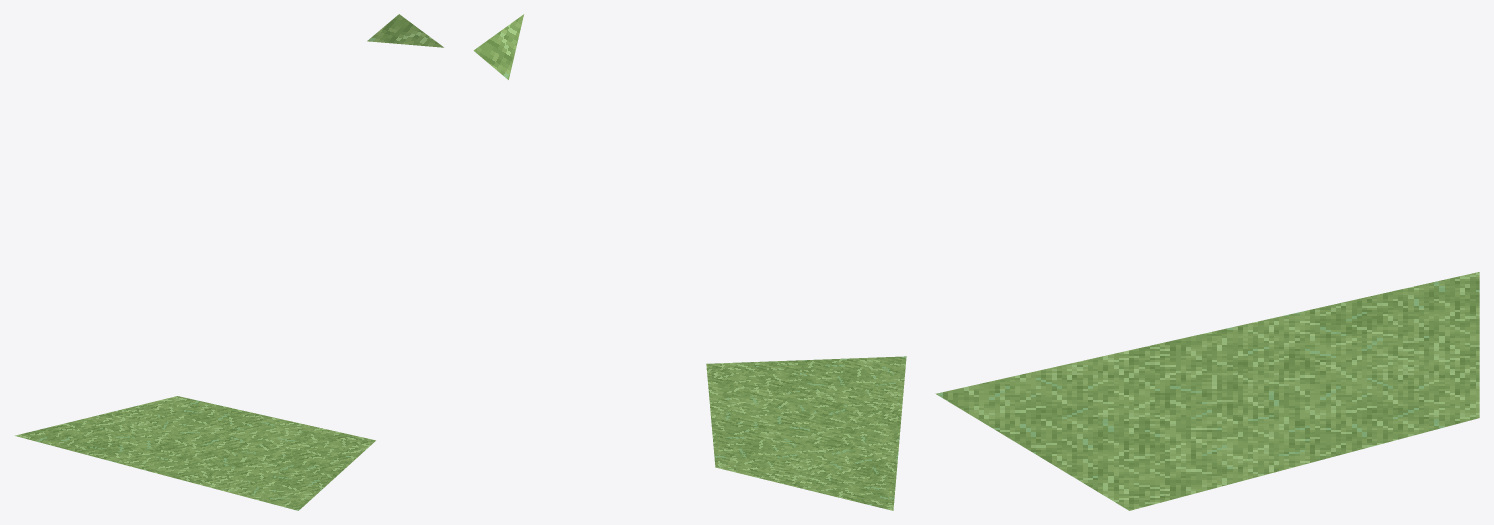
Rendered from kd_stage_135fe0_4_6_bounded.glb.
The picture shows the model from 3 angles, left to right: view 1: azimuth 30°, elevation 25°; view 2: azimuth 150°, elevation 25°; view 3: azimuth 270°, elevation 25°; orthographic projection. The views are drawn at different scales.
Parts seen in each view (by area): view 1: kd_stage_135fe0_4_6_bounded; view 2: kd_stage_135fe0_4_6_bounded; view 3: kd_stage_135fe0_4_6_bounded.
Boxes of the visible parts, x1,y1,x2,y2 form: kd_stage_135fe0_4_6_bounded: (15,14,443,510); kd_stage_135fe0_4_6_bounded: (473,14,906,510); kd_stage_135fe0_4_6_bounded: (935,272,1479,510).
Size of the model in its own units: 4.18 by 3.4 by 2.78.
Materials: 1 (1 with a texture image).
